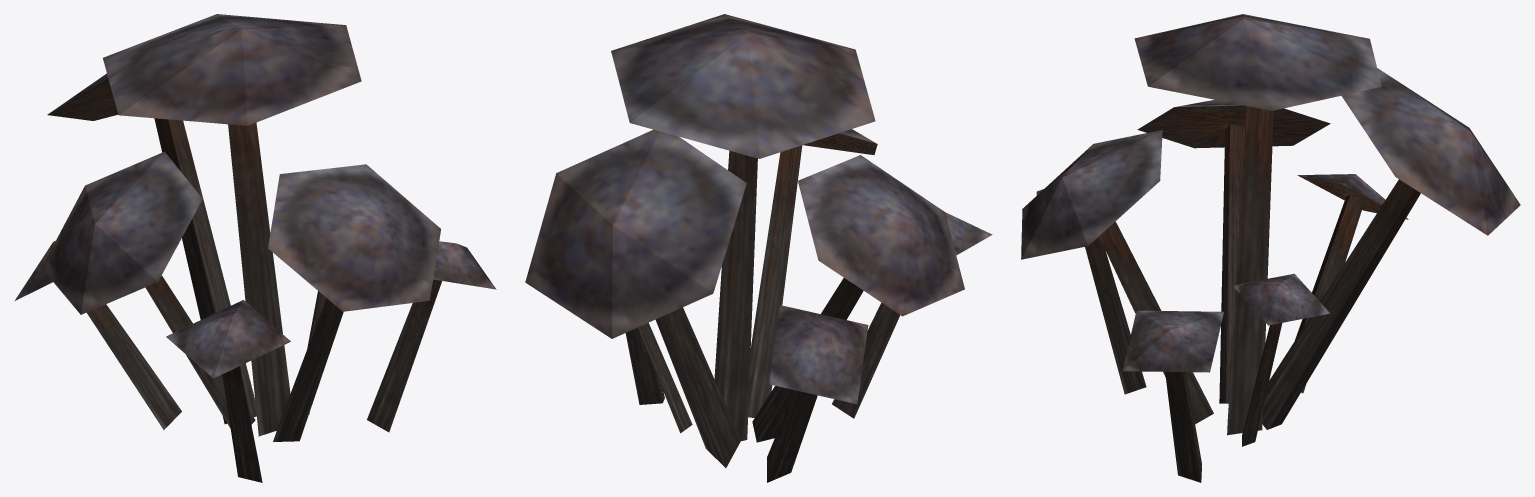
The model's file is Shrooms1.fbx.
The picture shows the model from 3 angles, left to right: view 1: azimuth 30°, elevation 25°; view 2: azimuth 150°, elevation 25°; view 3: azimuth 270°, elevation 25°; orthographic projection. The views are drawn at different scales.
Visible parts, largest first — view 1: polySurface32; view 2: polySurface32; view 3: polySurface32.
Part boxes in pixels (<box>): polySurface32: <box>15,14,496,482</box>; polySurface32: <box>525,14,992,482</box>; polySurface32: <box>1021,14,1520,482</box>.
Bounding box in the file's own units: 0.4049 × 0.4018 × 0.45.
